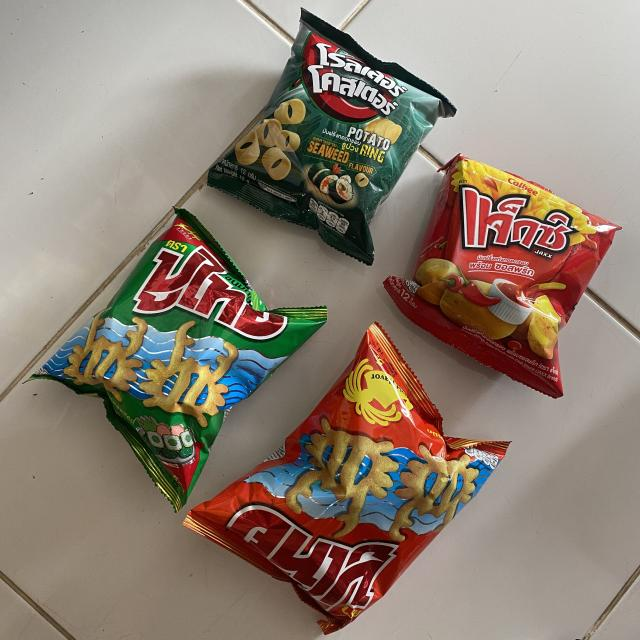plastik: (184, 322, 509, 634), (30, 209, 326, 511), (208, 9, 456, 265), (384, 155, 620, 398)
